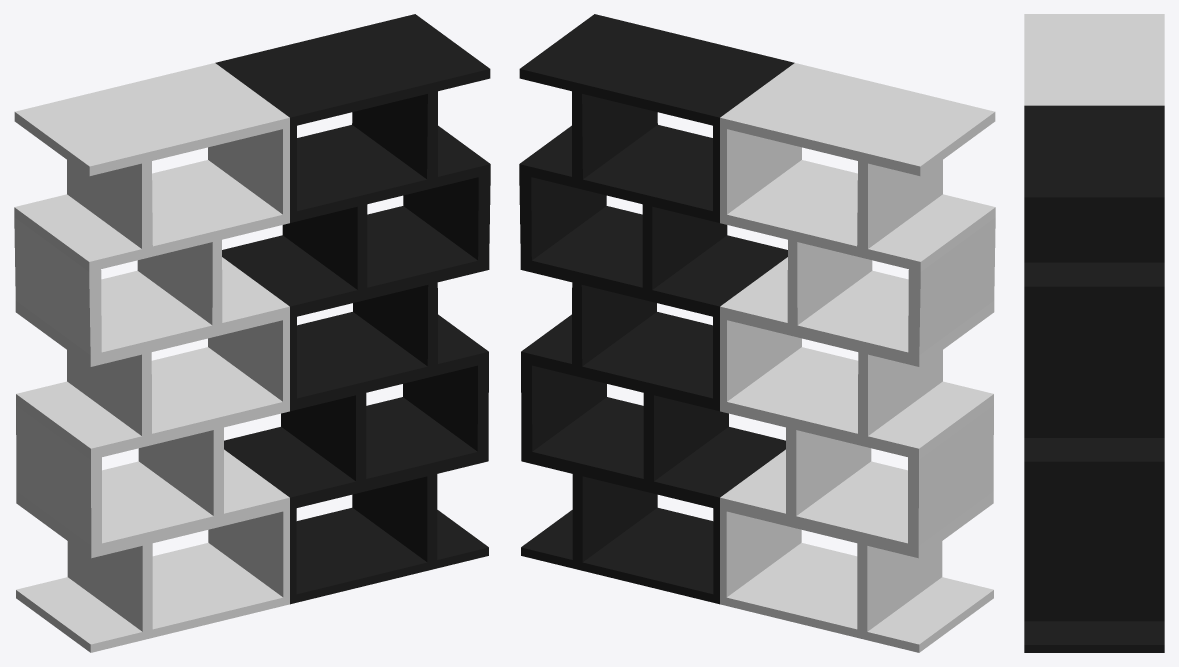
The model's file is modern bookshelf.fbx.
3 renders of one model, left to right at view 1: azimuth 30°, elevation 25°; view 2: azimuth 150°, elevation 25°; view 3: azimuth 270°, elevation 25°, orthographic. The views are drawn at different scales.
Parts seen in each view (by area): view 1: modern bookshelf; view 2: modern bookshelf; view 3: modern bookshelf.
Part boxes in pixels (<box>): modern bookshelf: <box>14,14,490,652</box>; modern bookshelf: <box>519,14,995,652</box>; modern bookshelf: <box>1024,14,1164,652</box>.
Size of the model in its own units: 177 by 205 by 57.26.
Materials: 1 (1 with a texture image).
